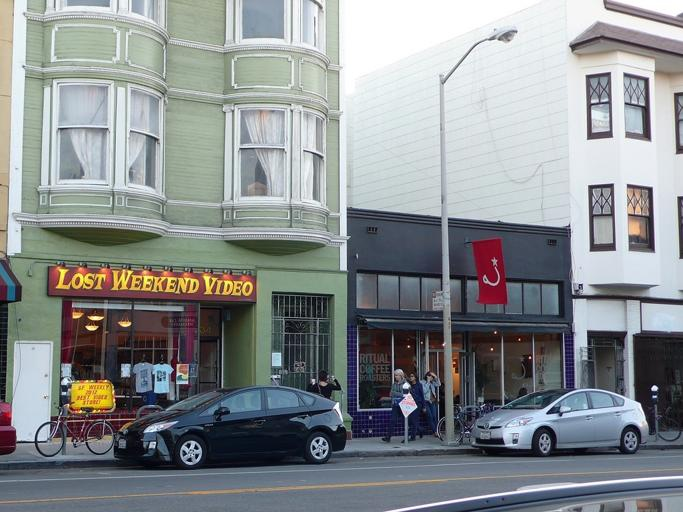non-vehicle: (33, 399, 115, 458), (435, 401, 487, 444), (643, 401, 681, 442)
